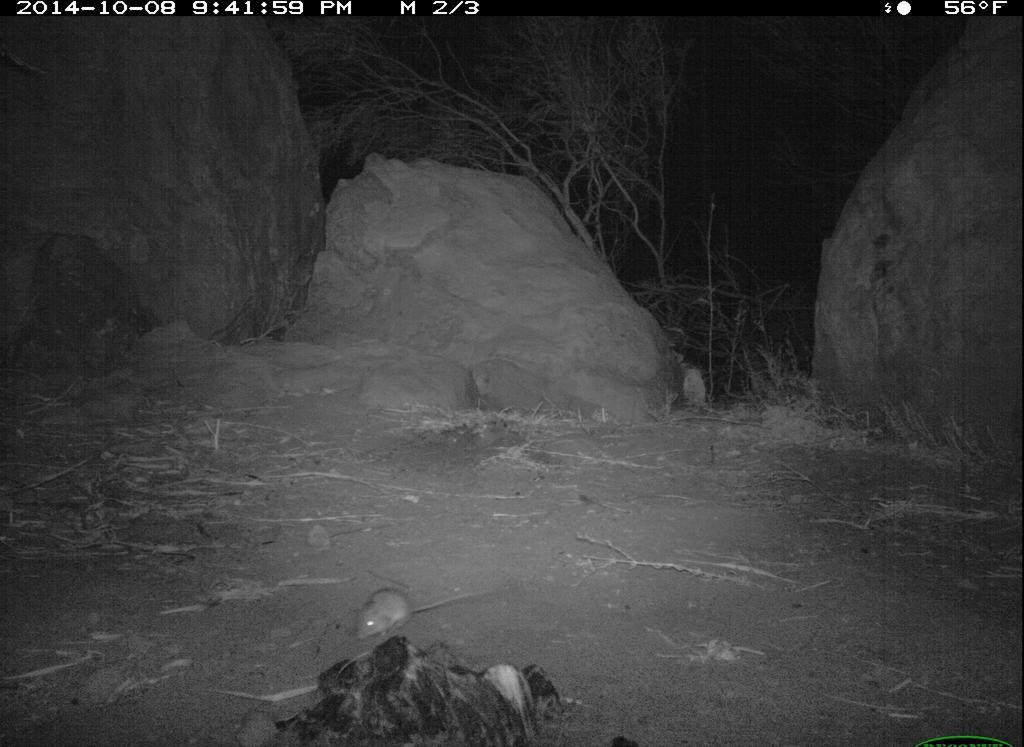rodent: (329, 575, 479, 642)
